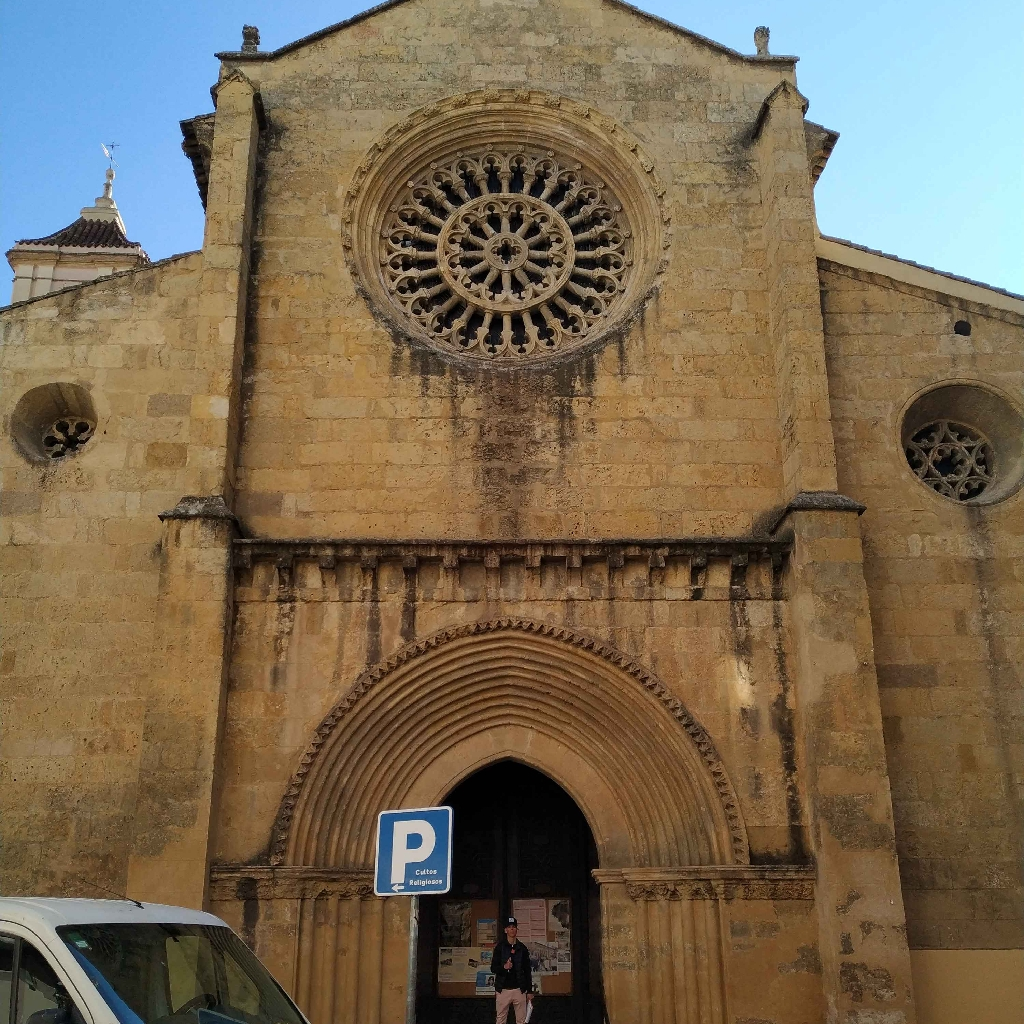arco-apuntado: (416, 742, 604, 893)
